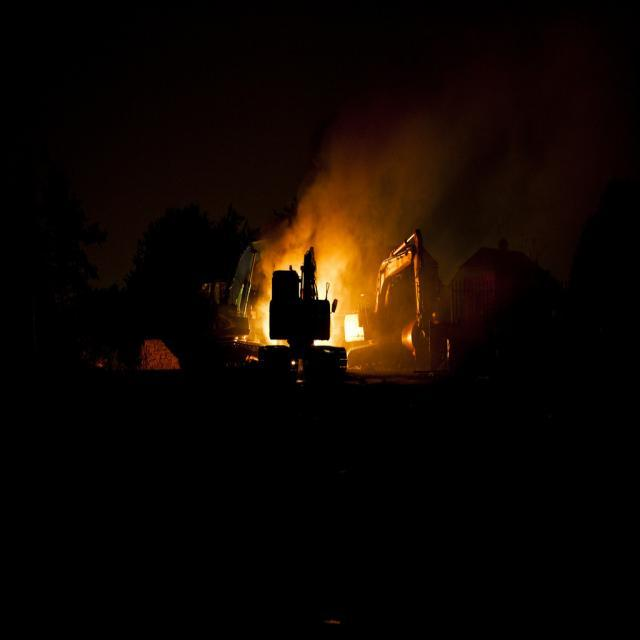Fire: (321, 266, 342, 312), (259, 304, 275, 342)
